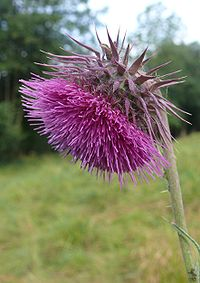thistle: (33, 30, 189, 189)
